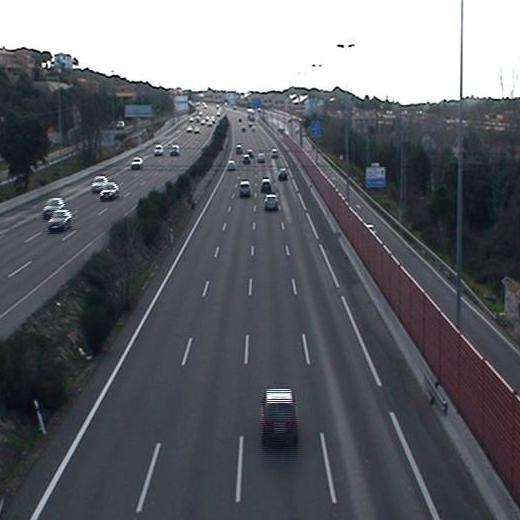car: (258, 385, 301, 454), (260, 192, 282, 214), (237, 178, 253, 200), (259, 177, 275, 195), (277, 167, 291, 182), (226, 159, 237, 172)
